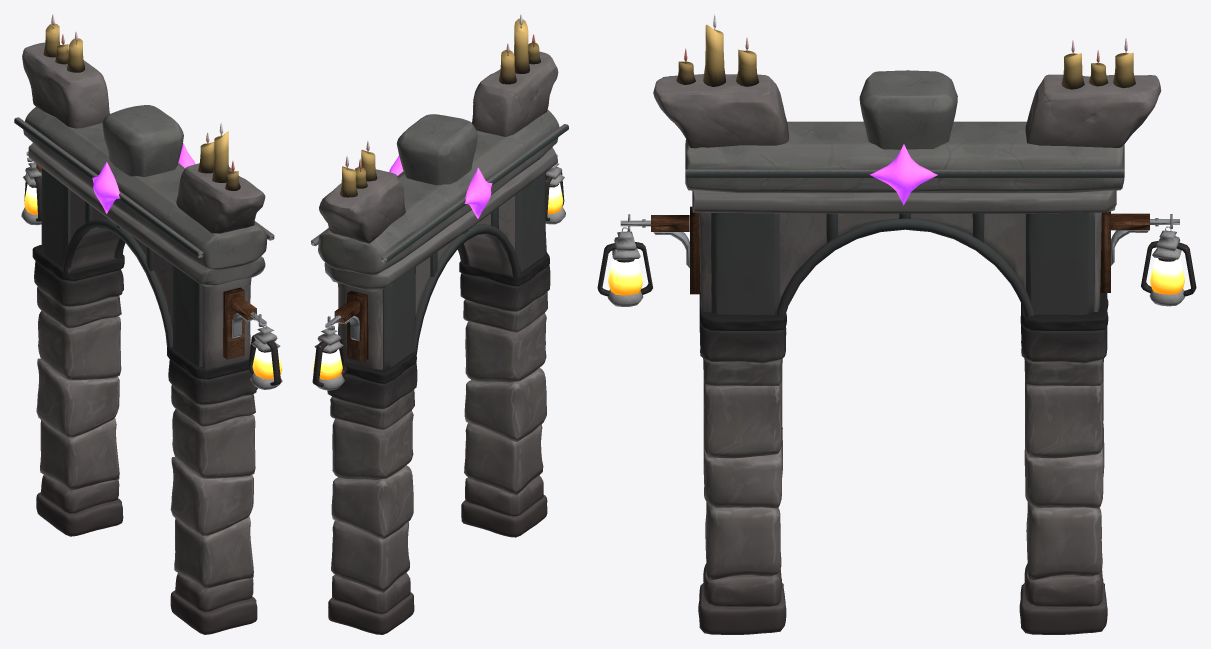
Rendered from portal_final.fbx.
3 views of the same model, side by side, from view 1: azimuth 30°, elevation 25°; view 2: azimuth 150°, elevation 25°; view 3: azimuth 270°, elevation 25° (orthographic). The views are drawn at different scales.
Parts seen in each view (by area): view 1: toppart_004, pole_rock_low_poly.001, pole_rock_low_poly, low_poly_rock.001, low_poly_rock, Cube.014, Cube.001, Cube.003; view 2: toppart_004, pole_rock_low_poly, pole_rock_low_poly.001, low_poly_rock, low_poly_rock.001, Cube.014, Cube.003, Cube.001; view 3: toppart_004, pole_rock_low_poly.001, pole_rock_low_poly, low_poly_rock, low_poly_rock.001, Cube.014, Cube.003, Cube.001.
Part boxes in pixels (x1=…): toppart_004: x1=14, y1=105, x2=274, y2=379; pole_rock_low_poly.001: x1=32, y1=244, x2=124, y2=536; pole_rock_low_poly: x1=167, y1=347, x2=257, y2=634; low_poly_rock.001: x1=22, y1=42, x2=109, y2=128; low_poly_rock: x1=176, y1=163, x2=265, y2=233; Cube.014: x1=43, y1=14, x2=240, y2=190; Cube.001: x1=248, y1=325, x2=282, y2=389; Cube.003: x1=21, y1=161, x2=41, y2=225; toppart_004: x1=311, y1=110, x2=568, y2=369; pole_rock_low_poly: x1=459, y1=252, x2=550, y2=537; pole_rock_low_poly.001: x1=327, y1=352, x2=417, y2=634; low_poly_rock: x1=472, y1=51, x2=558, y2=136; low_poly_rock.001: x1=319, y1=169, x2=405, y2=243; Cube.014: x1=340, y1=14, x2=540, y2=197; Cube.003: x1=312, y1=326, x2=347, y2=390; Cube.001: x1=545, y1=163, x2=565, y2=224; toppart_004: x1=620, y1=70, x2=1179, y2=317; pole_rock_low_poly.001: x1=1019, y1=293, x2=1108, y2=634; pole_rock_low_poly: x1=698, y1=294, x2=786, y2=634; low_poly_rock: x1=653, y1=74, x2=788, y2=148; low_poly_rock.001: x1=1025, y1=74, x2=1161, y2=147; Cube.014: x1=676, y1=14, x2=1135, y2=89; Cube.003: x1=1141, y1=226, x2=1196, y2=306; Cube.001: x1=597, y1=227, x2=652, y2=306.
Size of the model in its own units: 348 by 1677 by 1507.
